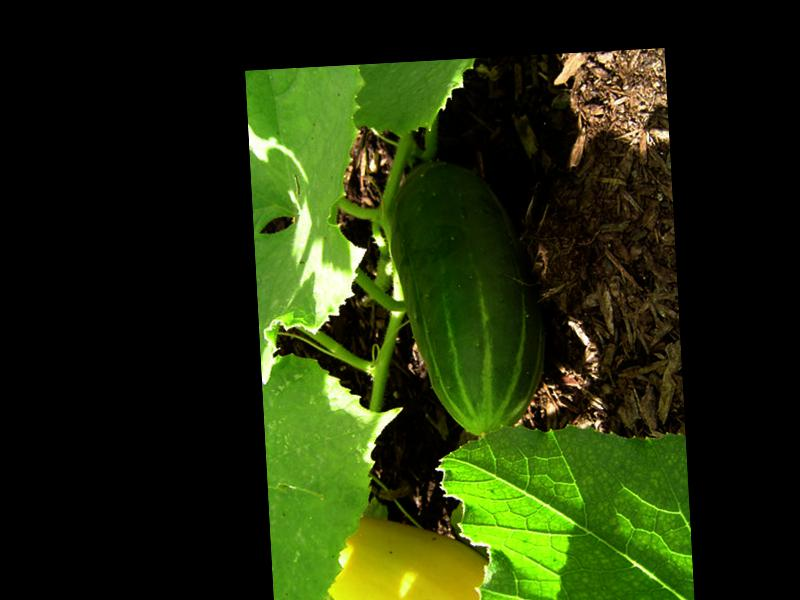Cucumber: (385, 154, 552, 441)
